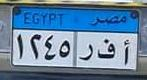1: (15, 34, 24, 59)
2: (30, 32, 42, 59)
4: (43, 34, 56, 60)
5: (58, 39, 72, 59)
alif: (120, 40, 131, 66)
faa: (96, 36, 117, 60)
raa: (78, 43, 94, 62)
